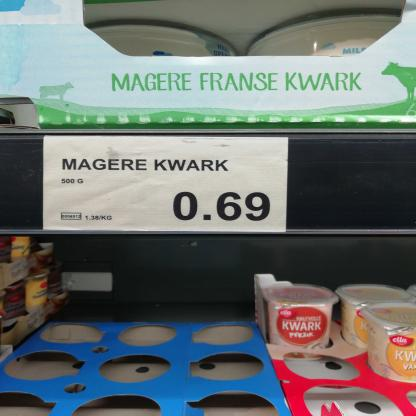prtg: (45, 138, 289, 233)
